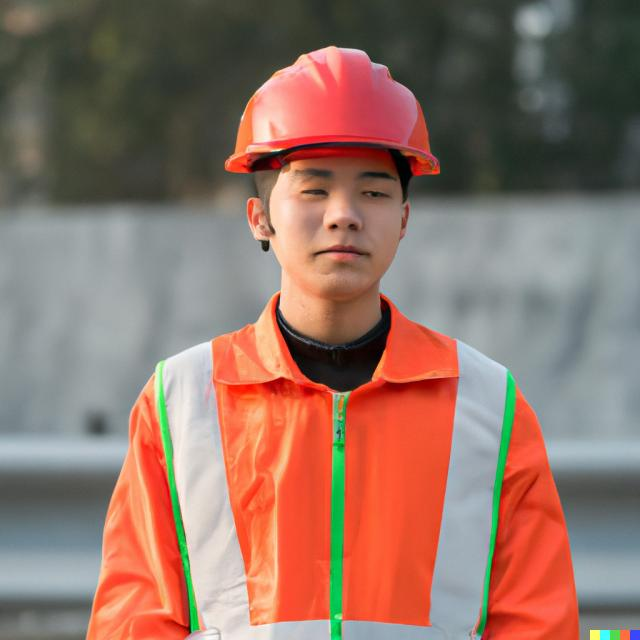Reflective-Jacket: (105, 308, 556, 634)
Safety-Helmet: (222, 45, 438, 180)
